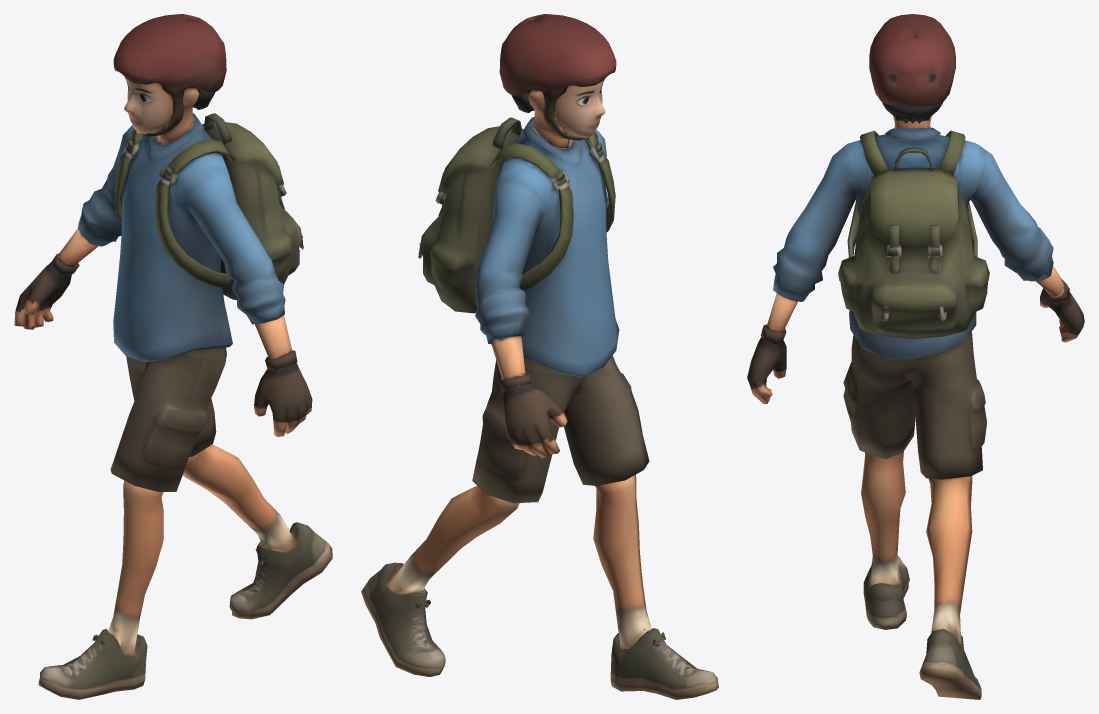
Rendered from skater_walking_pose.glb.
3 views of the same model, side by side, from view 1: azimuth 30°, elevation 25°; view 2: azimuth 150°, elevation 25°; view 3: azimuth 270°, elevation 25° (orthographic). The views are drawn at different scales.
Visible parts, largest first — view 1: tripo_node_41bbf98f-f17d-4579-86e8-bff125561e03; view 2: tripo_node_41bbf98f-f17d-4579-86e8-bff125561e03; view 3: tripo_node_41bbf98f-f17d-4579-86e8-bff125561e03.
Part boxes in pixels (bbox=[...]): tripo_node_41bbf98f-f17d-4579-86e8-bff125561e03: bbox=[14, 14, 332, 699]; tripo_node_41bbf98f-f17d-4579-86e8-bff125561e03: bbox=[361, 14, 718, 699]; tripo_node_41bbf98f-f17d-4579-86e8-bff125561e03: bbox=[747, 14, 1084, 699].
Bounding box in the file's own units: 0.5176 × 0.998 × 0.4863.
Materials: 1 (1 with a texture image).
